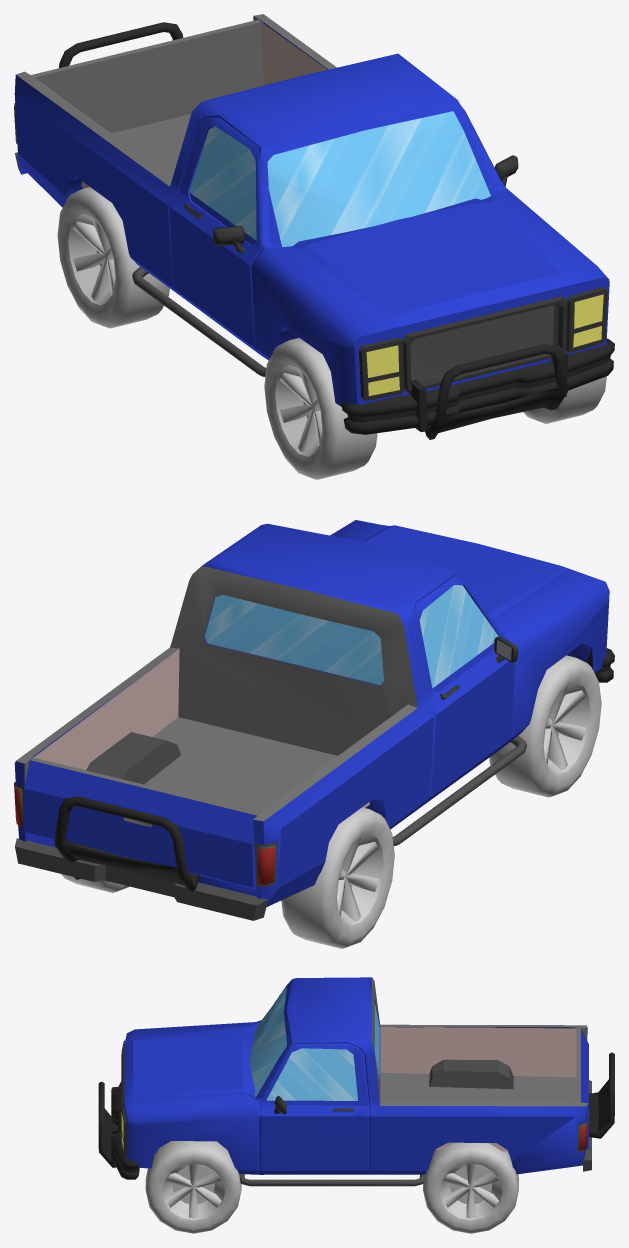
File: CarBlue.fbx
The picture shows the model from 3 angles, top to bottom: view 1: azimuth 30°, elevation 25°; view 2: azimuth 150°, elevation 25°; view 3: azimuth 270°, elevation 25°; orthographic projection. The views are drawn at different scales.
Visible parts, largest first — view 1: Monster Truck Blue, Wheel_18B_F.R.001, Wheel_18B_F.R.003, Monster Truck Blue.003, Monster Truck Blue.002, Wheel_18B_F.R.002, Monster Truck Blue.008; view 2: Monster Truck Blue, Wheel_18B_F.R.003, Wheel_18B_F.R.001, Monster Truck Blue.008; view 3: Monster Truck Blue, Wheel_18B_F.R.002, Wheel_18B_F.R.004, Monster Truck Blue.008, Monster Truck Blue.003, Monster Truck Blue.002.
Part boxes in pixels (box(x1,y1,x2,y2)): Monster Truck Blue: box(14, 14, 609, 406); Wheel_18B_F.R.001: box(264, 337, 377, 479); Wheel_18B_F.R.003: box(57, 187, 169, 328); Monster Truck Blue.003: box(341, 338, 614, 434); Monster Truck Blue.002: box(425, 344, 568, 439); Wheel_18B_F.R.002: box(523, 376, 606, 423); Monster Truck Blue.008: box(59, 22, 183, 131); Monster Truck Blue: box(14, 520, 609, 920); Wheel_18B_F.R.003: box(281, 807, 394, 948); Wheel_18B_F.R.001: box(489, 655, 601, 797); Monster Truck Blue.008: box(54, 796, 200, 892); Monster Truck Blue: box(121, 977, 591, 1186); Wheel_18B_F.R.002: box(145, 1141, 241, 1233); Wheel_18B_F.R.004: box(423, 1142, 518, 1233); Monster Truck Blue.008: box(589, 1052, 614, 1138); Monster Truck Blue.003: box(111, 1081, 139, 1179); Monster Truck Blue.002: box(98, 1081, 117, 1167).
Size of the model in its own units: 260 by 223 by 662.
